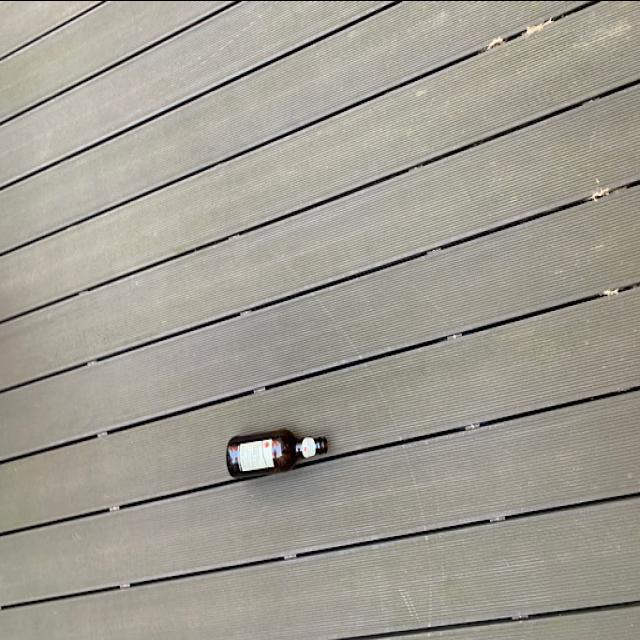Glass Bottle: (220, 424, 344, 488)
